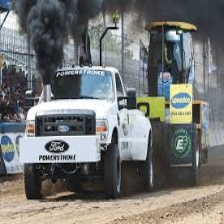smoke: (11, 1, 103, 79)
